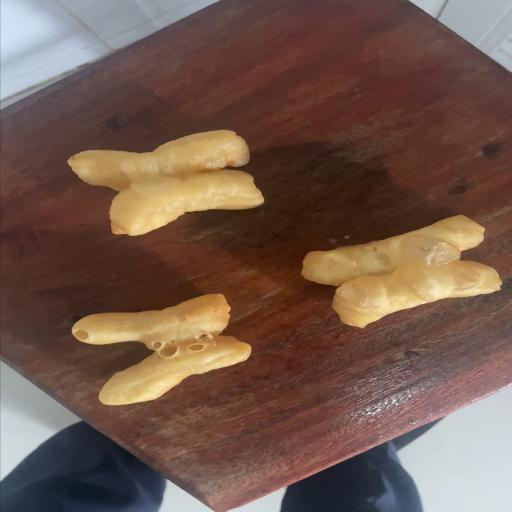street_golden_defect: (72, 294, 251, 405), (72, 294, 251, 404), (302, 215, 484, 286), (332, 260, 501, 328)
street_golden_good: (68, 130, 264, 236)
